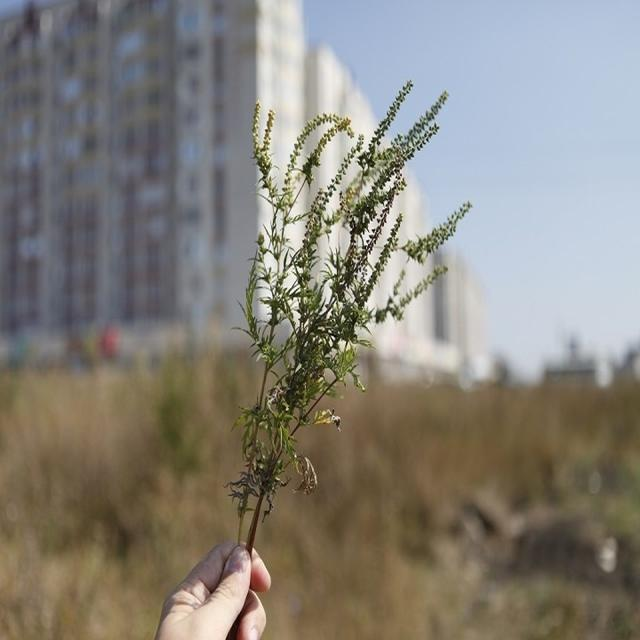ambrosia: (200, 64, 476, 504)
